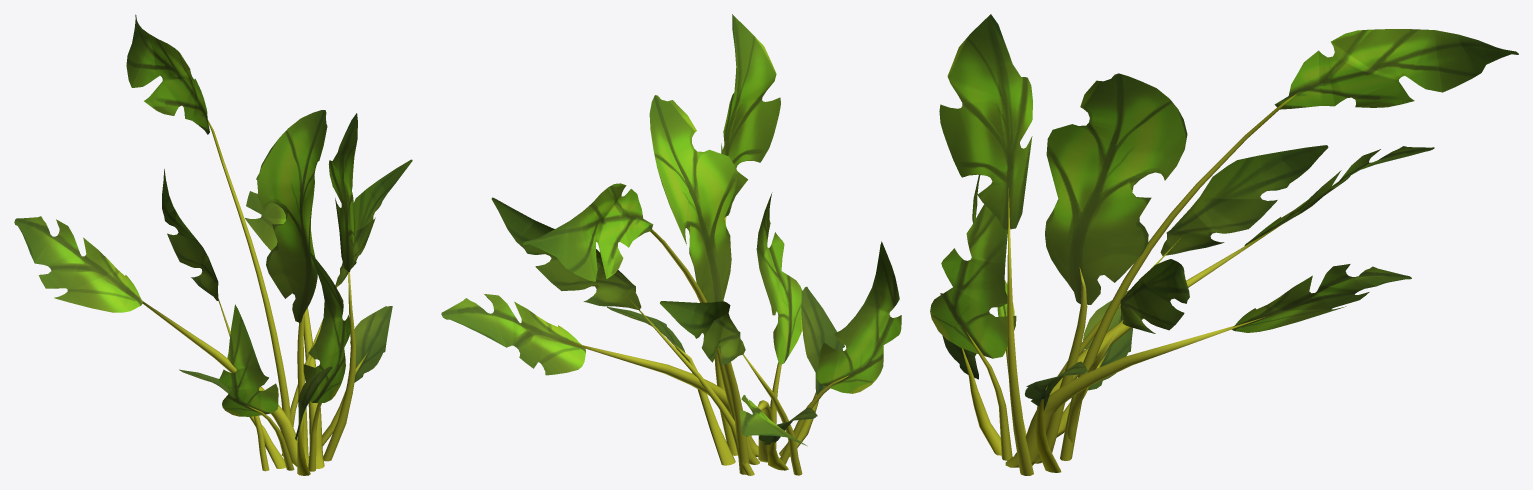
Rendered from SM_Plant_02.fbx.
3 renders of one model, left to right at view 1: azimuth 30°, elevation 25°; view 2: azimuth 150°, elevation 25°; view 3: azimuth 270°, elevation 25°, orthographic. The views are drawn at different scales.
Parts seen in each view (by area): view 1: SM_Plant_02; view 2: SM_Plant_02; view 3: SM_Plant_02.
Boxes of the visible parts, left/top/right/bottom form: SM_Plant_02: left=14, top=14, right=412, bottom=475; SM_Plant_02: left=441, top=14, right=901, bottom=475; SM_Plant_02: left=930, top=14, right=1518, bottom=475.
Size of the model in its own units: 20.72 by 25.22 by 22.21.
1 material, 1 textured.
